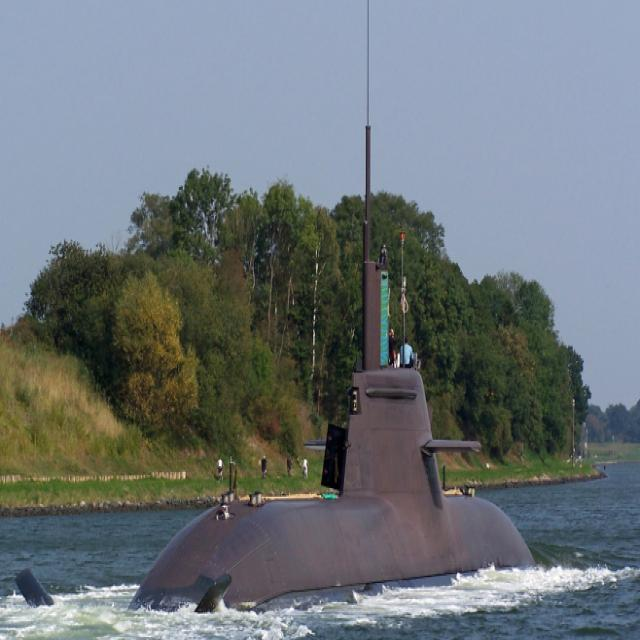submarine: (19, 118, 554, 610)
